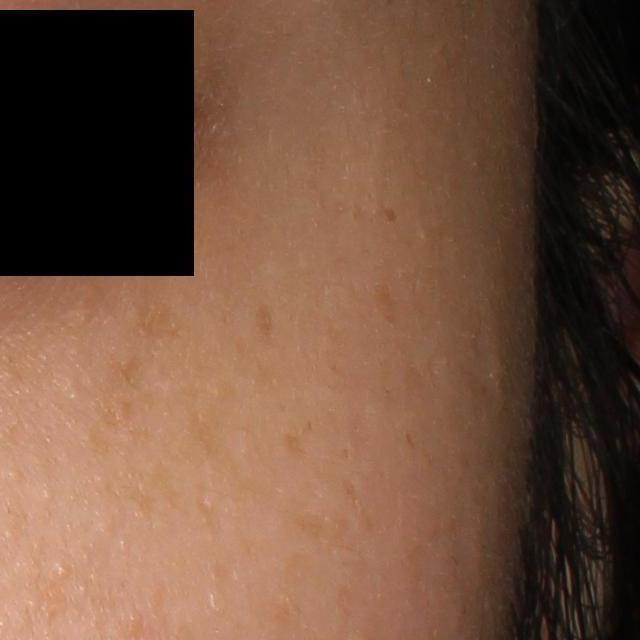comedo: (53, 562, 70, 580)
melasma: (126, 285, 182, 349), (181, 402, 228, 467), (102, 352, 150, 397), (372, 280, 398, 330), (246, 298, 277, 336), (398, 422, 417, 453)
